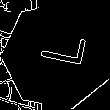L_W: (29, 35, 86, 75)
